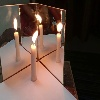fire: (31, 31, 40, 48)
